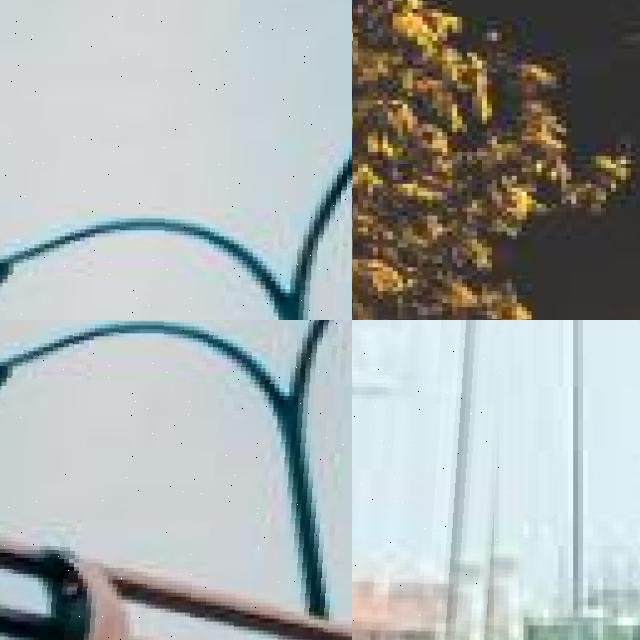street light: (0, 0, 352, 320), (0, 320, 352, 640), (352, 320, 613, 640), (409, 320, 640, 640), (352, 320, 523, 640), (523, 320, 640, 640)
